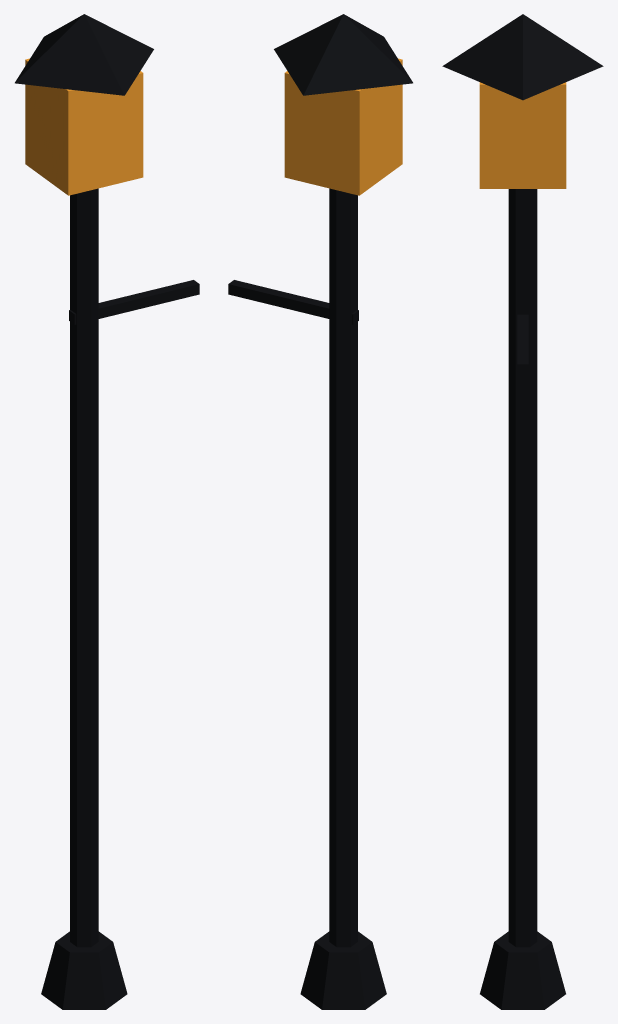
Rendered from park_lamp.obj.
3 views of the same model, side by side, from view 1: azimuth 30°, elevation 25°; view 2: azimuth 150°, elevation 25°; view 3: azimuth 270°, elevation 25° (orthographic).
Parts seen in each view (by area): view 1: park_lamp; view 2: park_lamp; view 3: park_lamp.
Boxes of the visible parts, x1,y1,x2,y2 form: park_lamp: (15,14,199,1009); park_lamp: (228,14,412,1009); park_lamp: (442,14,603,1009).
Bounding box in the file's own units: 0.73 × 3.75 × 0.56.
